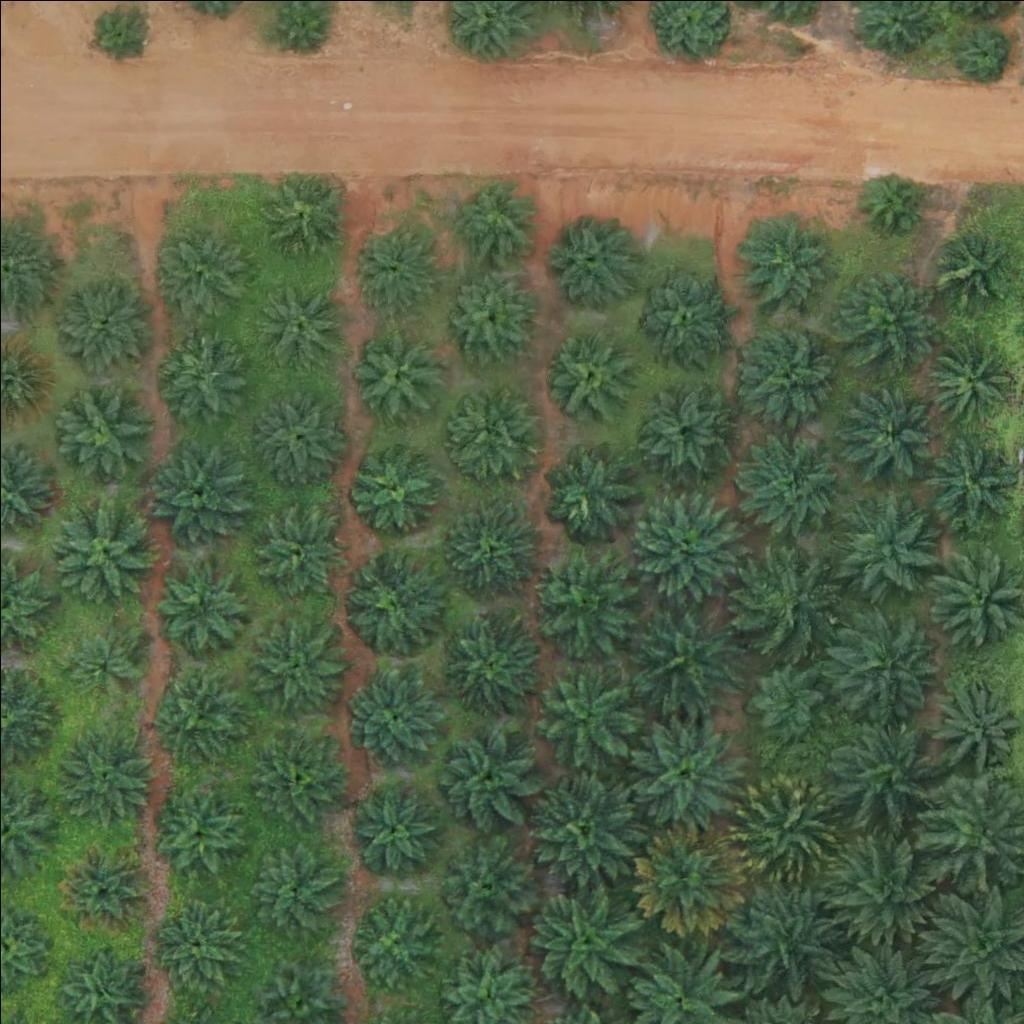Kelapa_Sawit: (629, 480, 742, 594), (720, 881, 833, 994), (527, 653, 640, 766), (631, 820, 744, 933), (729, 771, 842, 884), (629, 719, 742, 832), (632, 601, 745, 714), (829, 713, 941, 827), (825, 610, 937, 724), (522, 884, 634, 997), (529, 771, 641, 884), (832, 827, 944, 940), (47, 498, 147, 599), (147, 778, 247, 879), (146, 662, 246, 763), (148, 438, 248, 539), (241, 842, 341, 943), (244, 725, 344, 826), (245, 616, 345, 717), (246, 499, 346, 600), (248, 383, 348, 484), (345, 665, 445, 766), (340, 552, 440, 653), (435, 834, 535, 935), (437, 725, 537, 826), (439, 609, 539, 710), (437, 499, 537, 600), (529, 555, 629, 656), (838, 494, 938, 595), (921, 433, 1021, 534), (834, 266, 934, 367), (740, 321, 840, 422), (735, 211, 835, 312), (151, 225, 251, 326), (49, 377, 149, 478), (51, 273, 151, 374), (52, 725, 152, 825), (540, 444, 640, 544), (733, 551, 833, 651), (740, 430, 840, 530), (629, 263, 729, 363), (537, 212, 637, 312), (435, 266, 535, 366), (150, 899, 238, 987), (350, 441, 438, 529), (644, 383, 732, 471), (923, 333, 1011, 421), (350, 328, 438, 416), (348, 222, 436, 310), (252, 282, 340, 370), (255, 172, 343, 260), (59, 845, 146, 933), (156, 563, 243, 651), (351, 896, 438, 984), (348, 781, 435, 869), (445, 382, 532, 470), (844, 381, 931, 469), (932, 680, 1019, 768), (542, 332, 629, 420), (448, 175, 535, 263), (149, 335, 236, 423), (65, 621, 140, 697), (749, 664, 824, 740), (929, 228, 1004, 303), (862, 167, 925, 230), (89, 2, 152, 65), (957, 25, 1007, 75)
